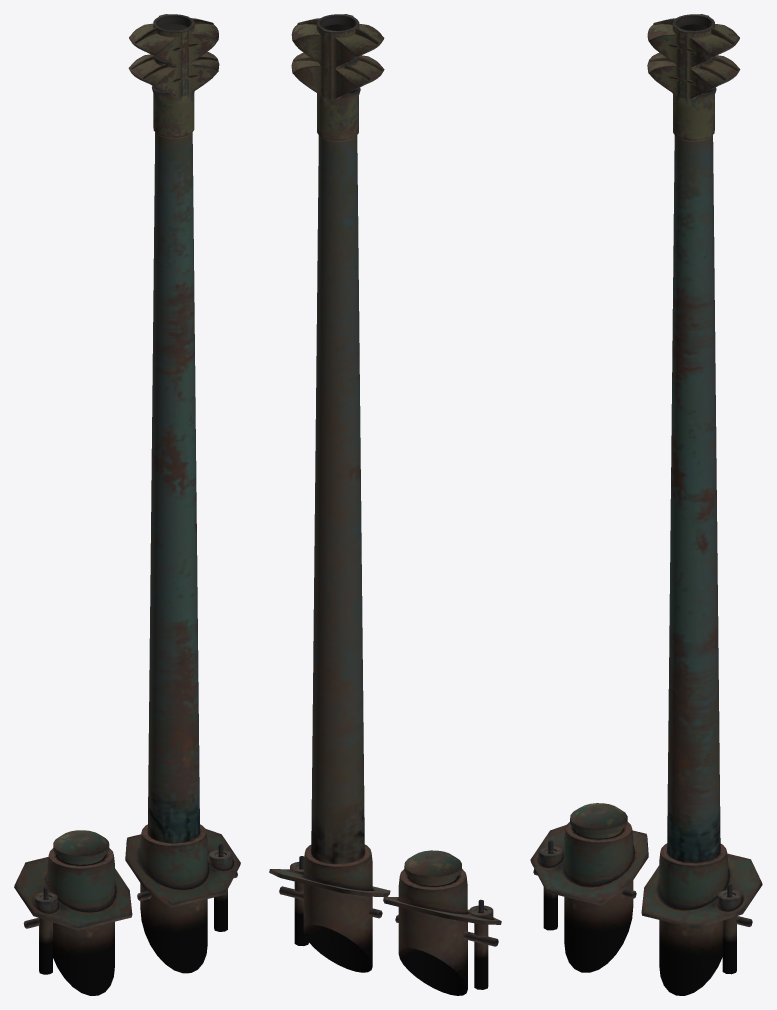
File: Gun_06.glb
3 views of the same model, side by side, from view 1: azimuth 30°, elevation 25°; view 2: azimuth 150°, elevation 25°; view 3: azimuth 330°, elevation 25° (orthographic). The views are drawn at different scales.
Parts seen in each view (by area): view 1: set_0_group_0; view 2: set_0_group_0; view 3: set_0_group_0.
Part boxes in pixels (bbox=[...]): set_0_group_0: bbox=[14, 14, 240, 995]; set_0_group_0: bbox=[269, 14, 501, 995]; set_0_group_0: bbox=[530, 14, 762, 995].
Size of the model in its own units: 1.02 by 4.36 by 0.3884.
1 material, 1 textured.
